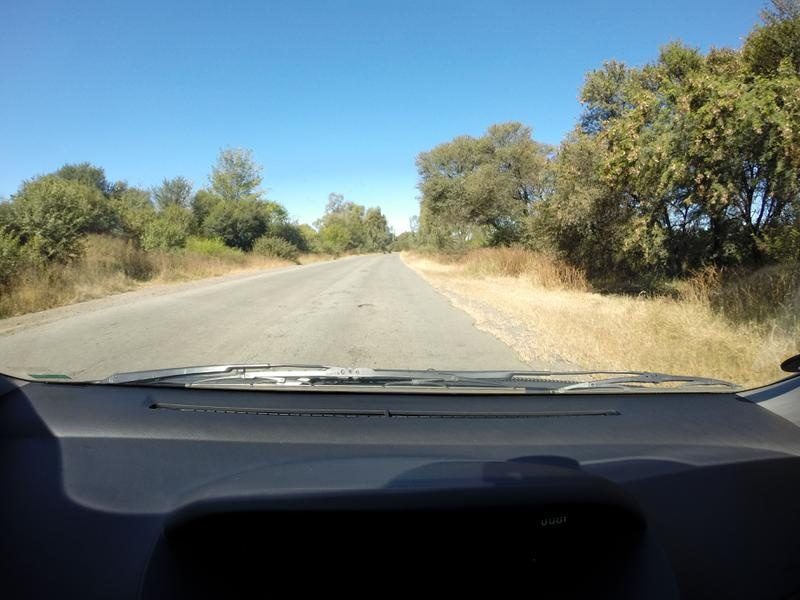pothole: (354, 297, 375, 317)
